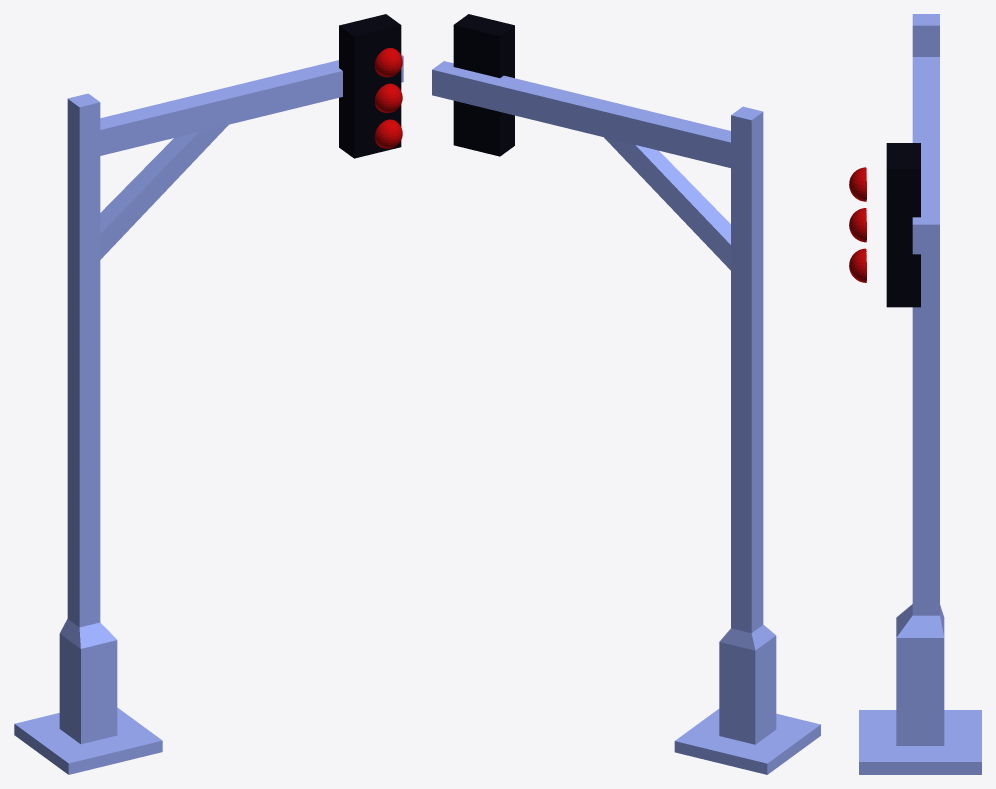
The model's file is semaforo3.obj.
The picture shows the model from 3 angles, left to right: view 1: azimuth 30°, elevation 25°; view 2: azimuth 150°, elevation 25°; view 3: azimuth 270°, elevation 25°; orthographic projection. The views are drawn at different scales.
Parts seen in each view (by area): view 1: Cube, semaforo, Esfera; view 2: Cube, semaforo; view 3: Cube, semaforo, Esfera.
Part boxes in pixels (bbox=[...]): Cube: bbox=[14, 55, 403, 774]; semaforo: bbox=[339, 14, 401, 158]; Esfera: bbox=[374, 48, 402, 148]; Cube: bbox=[432, 61, 820, 774]; semaforo: bbox=[453, 14, 514, 156]; Cube: bbox=[859, 14, 981, 774]; semaforo: bbox=[886, 143, 920, 307]; Esfera: bbox=[849, 167, 866, 282].
Bounding box in the file's own units: 7.54 × 13.2 × 2.13.
